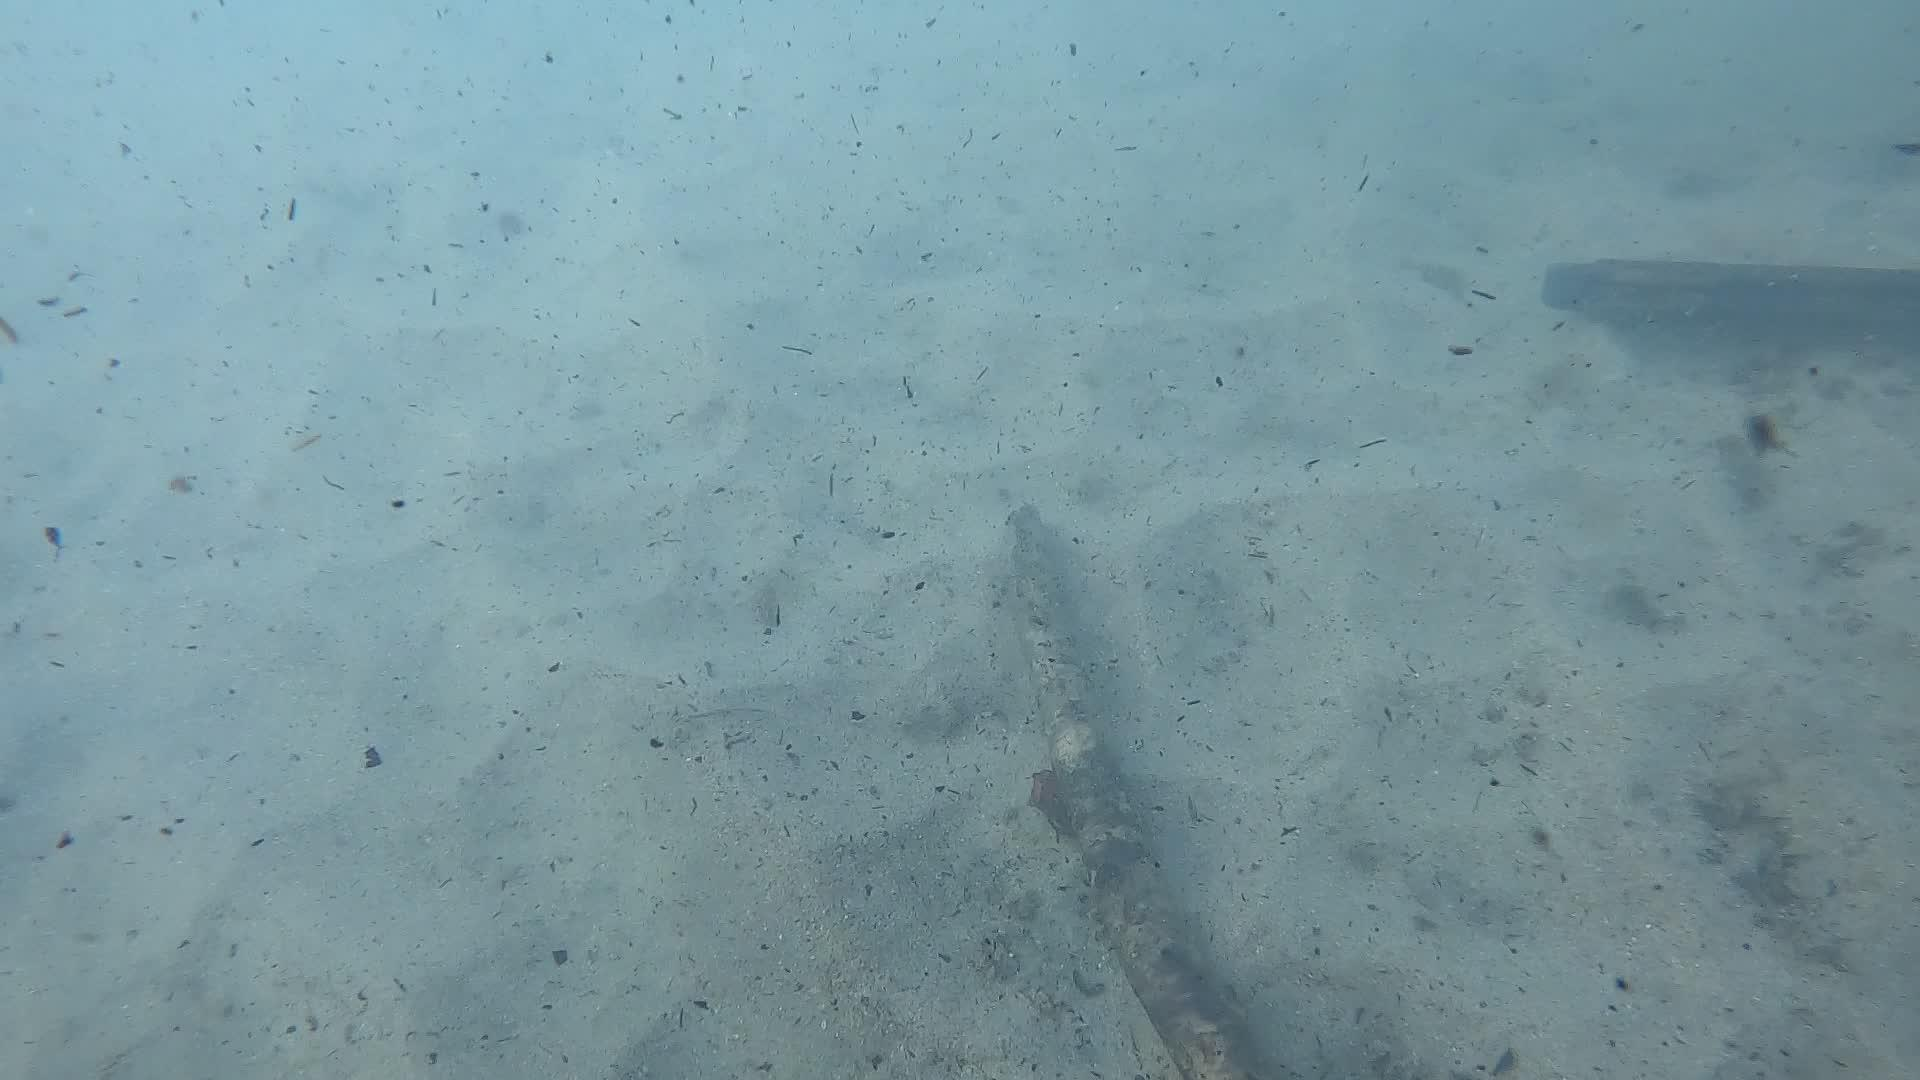wood: (1001, 505, 1253, 1080), (1542, 255, 1920, 324)
